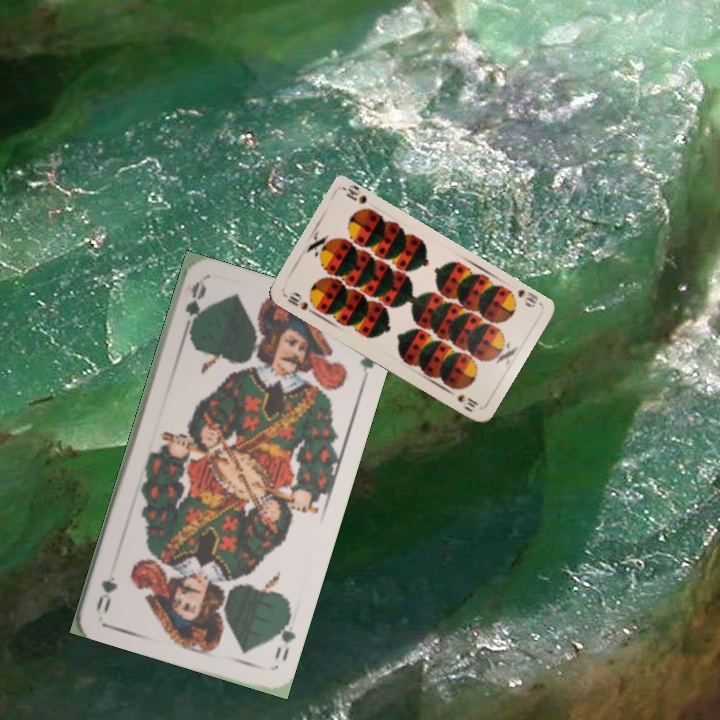GO: (178, 279, 209, 339), (268, 611, 298, 664)
S10: (503, 285, 541, 310), (283, 290, 311, 313)
